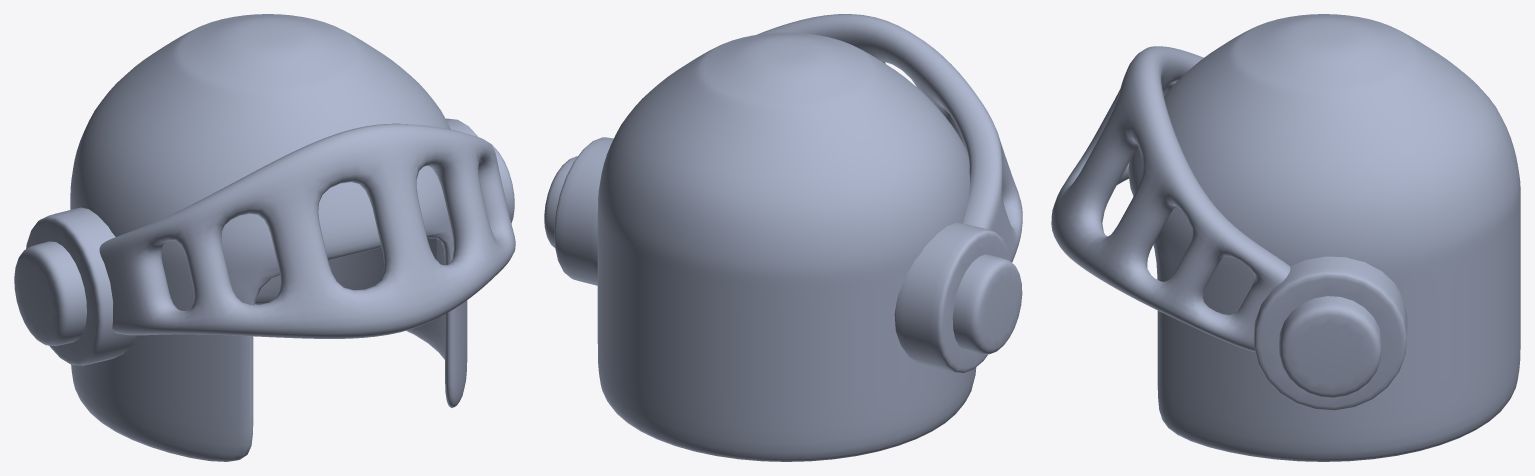
The model's file is helmet.fbx.
3 renders of one model, left to right at view 1: azimuth 30°, elevation 25°; view 2: azimuth 150°, elevation 25°; view 3: azimuth 270°, elevation 25°, orthographic. The views are drawn at different scales.
Parts seen in each view (by area): view 1: 실린더, 평면, 실린더.001, 실린더.002; view 2: 실린더, 실린더.001, 평면, 실린더.002; view 3: 실린더, 평면, 실린더.001, 실린더.002.
Boxes of the visible parts, x1,y1,x2,y2 form: 실린더: (70,14,467,461); 평면: (99,123,515,338); 실린더.001: (26,118,477,365); 실린더.002: (14,142,514,346); 실린더: (597,32,976,461); 실린더.001: (554,137,1010,373); 평면: (756,14,1022,262); 실린더.002: (544,156,1022,354); 실린더: (1128,14,1520,461); 평면: (1051,46,1290,351); 실린더.001: (1253,256,1407,410); 실린더.002: (1279,296,1381,397).
Bounding box in the file's own units: 274 × 201 × 245.
